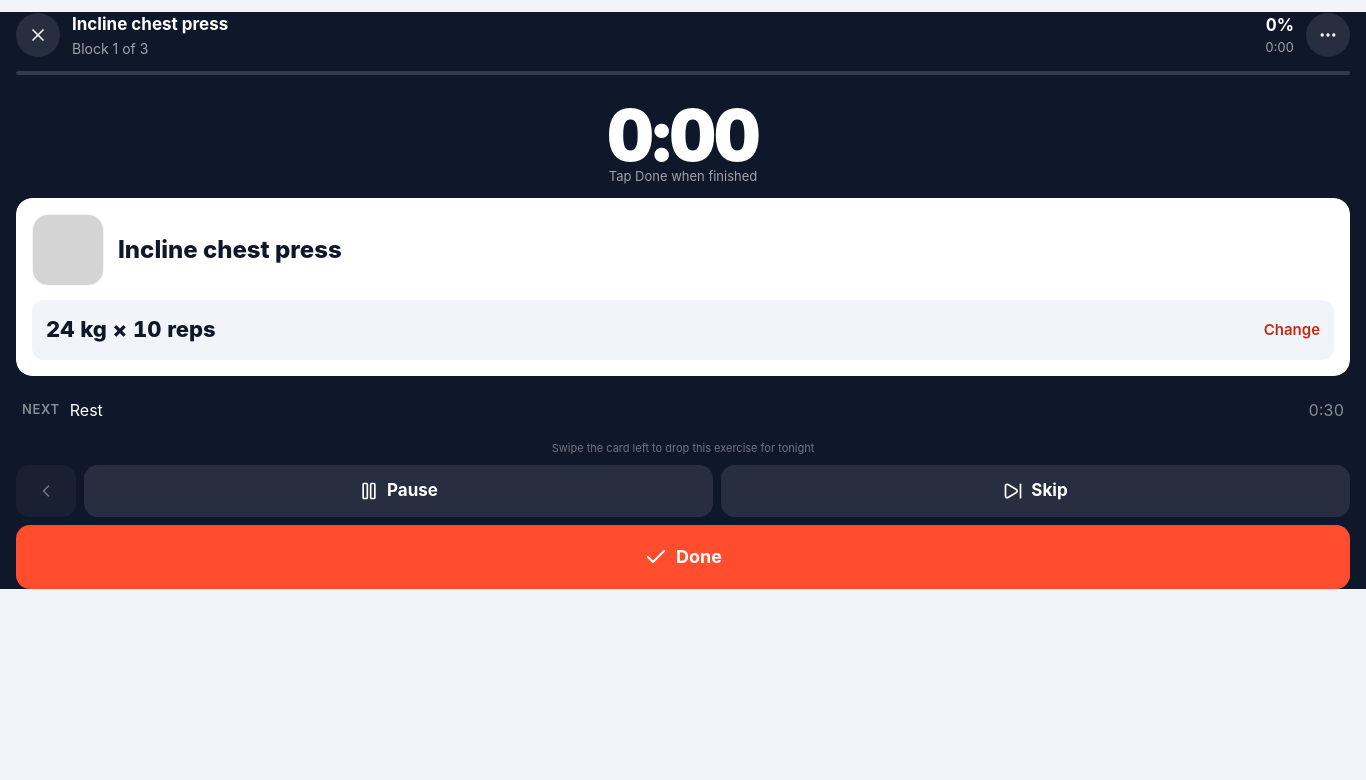
Test: folds load and reps into one line, Change opens the steppers in place
This screenshot has width=1366, height=780.
Click the button with aria-label "24 kg × 10 reps. Change": click(131, 329) [32,300,1334,360]
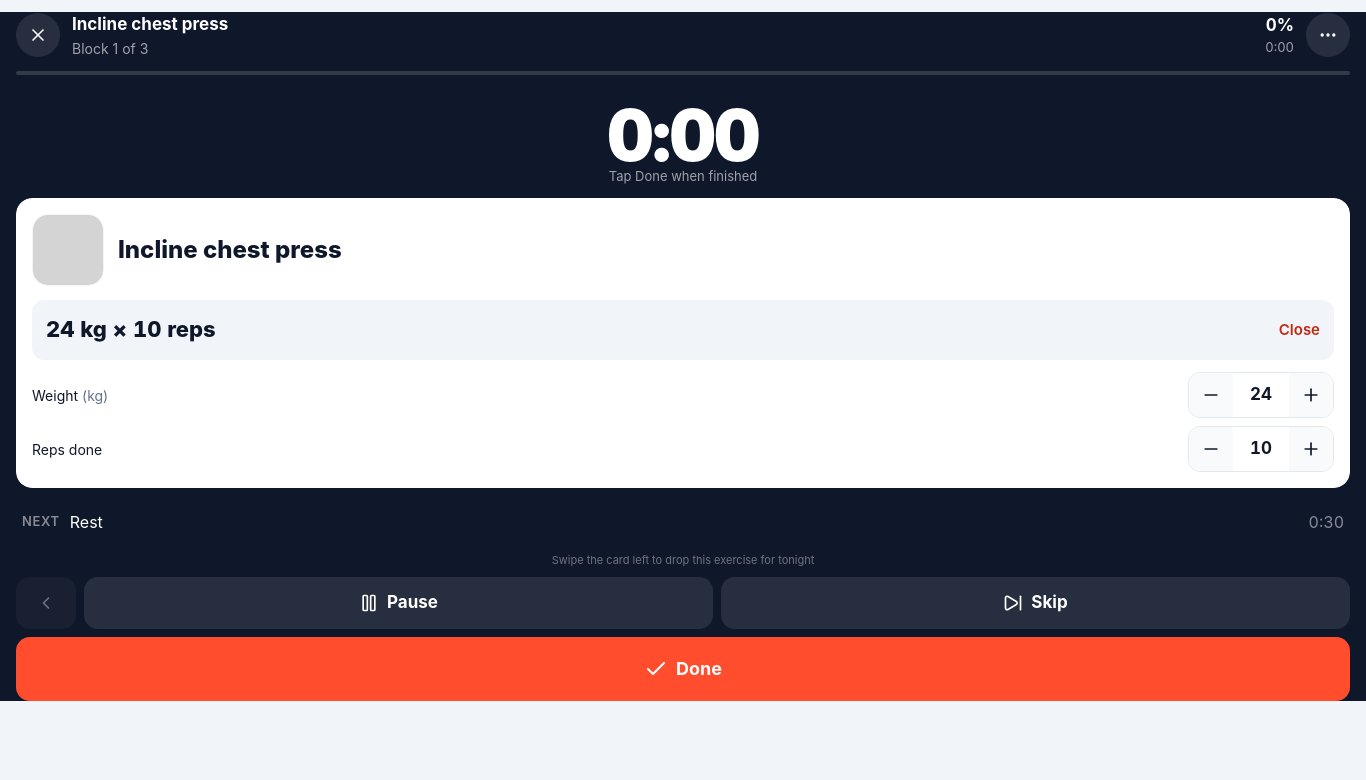
Expected: the button "24 kg × 10 reps Close" is expanded, [32,300,1334,360]
Expected: the element labelled "24" is shown, [1188,372,1334,418]
